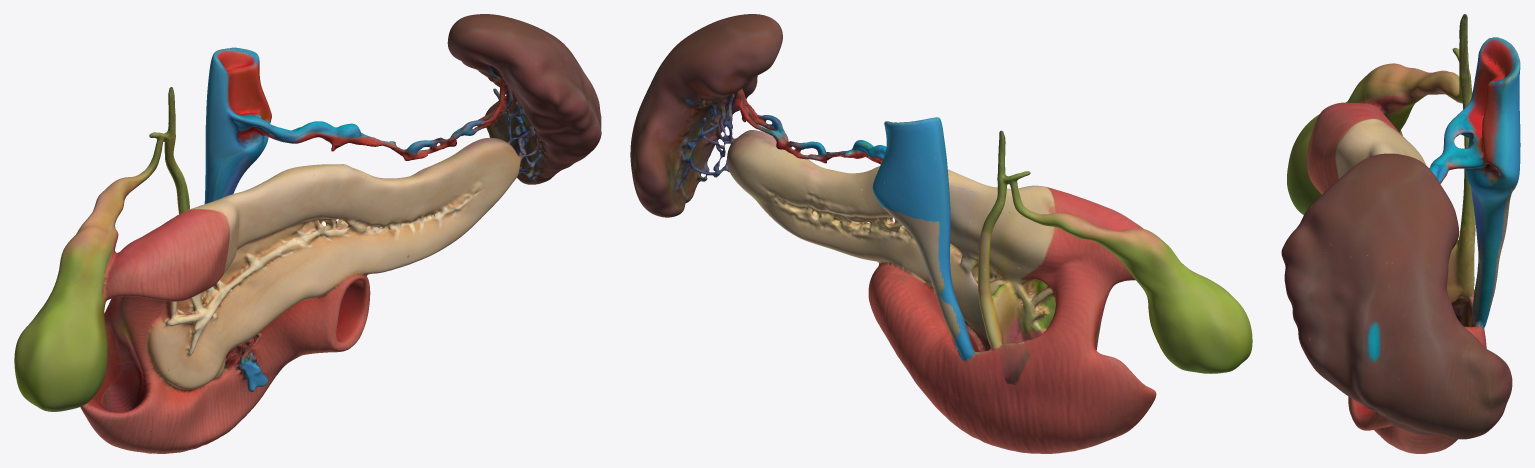
Rendered from pancreas.glb.
3 views of the same model, side by side, from view 1: azimuth 30°, elevation 25°; view 2: azimuth 150°, elevation 25°; view 3: azimuth 270°, elevation 25° (orthographic). The views are drawn at different scales.
Bounding box in the file's own units: 2 × 1.16 × 0.5597.
Materials: 1 (1 with a texture image).
